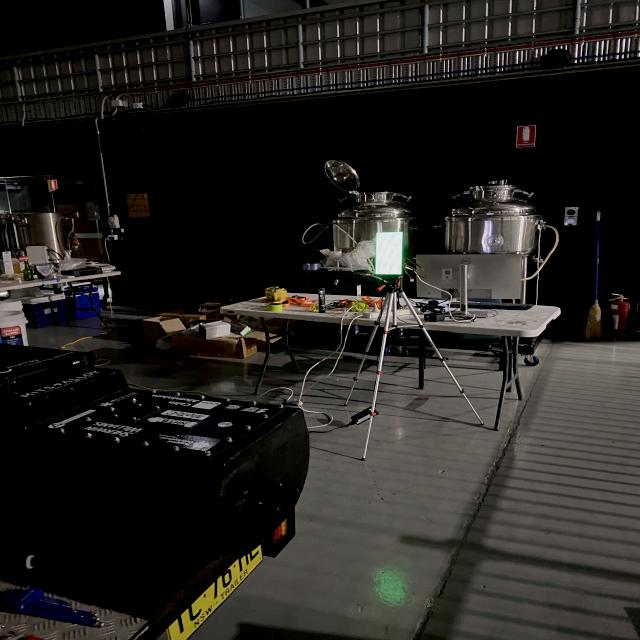matrix: (364, 228, 414, 277)
